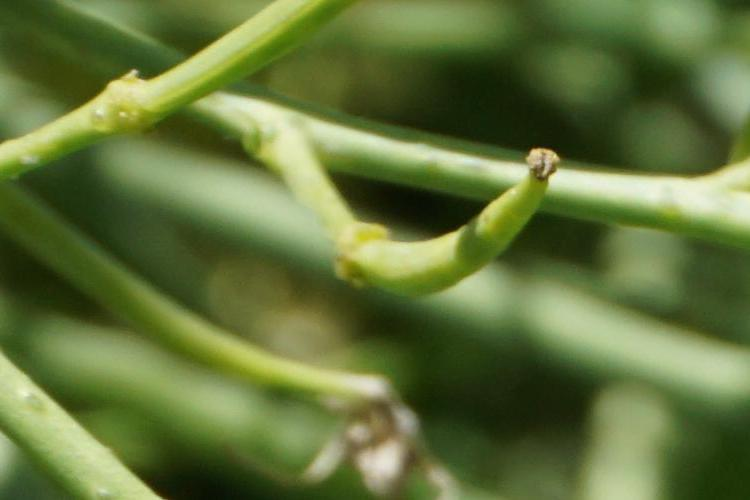pod: (317, 140, 567, 325)
